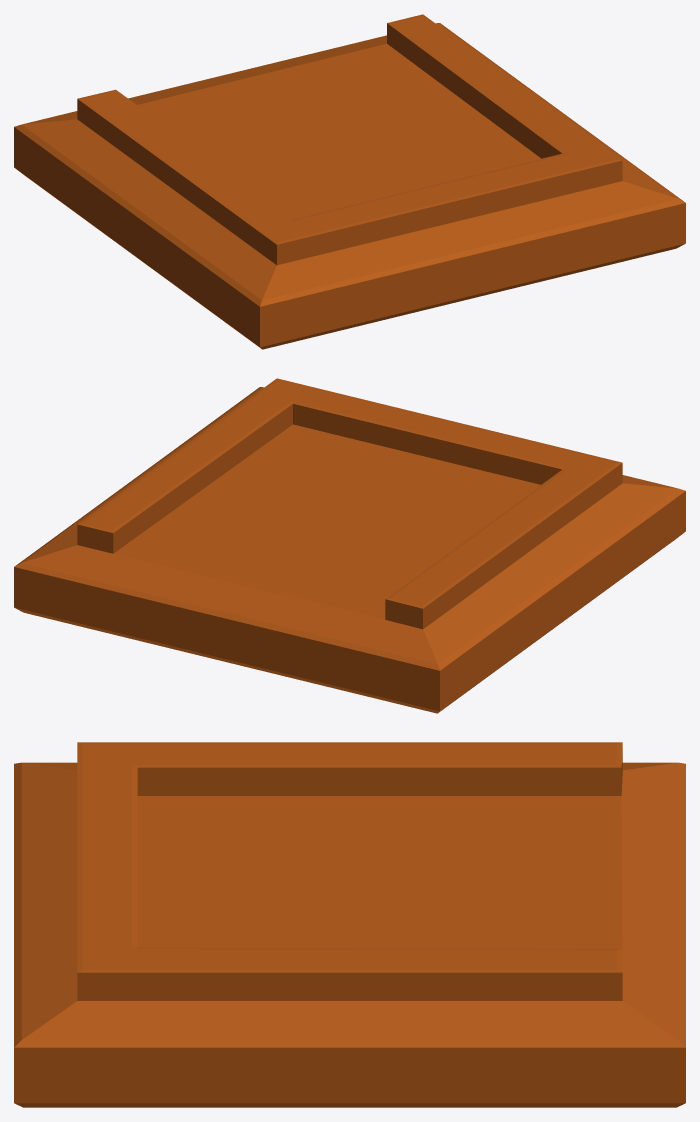
File: Lid_object_Rätt Normals 2.fbx
3 renders of one model, top to bottom at view 1: azimuth 30°, elevation 25°; view 2: azimuth 150°, elevation 25°; view 3: azimuth 270°, elevation 25°, orthographic. The views are drawn at different scales.
Visible parts, largest first — view 1: Kuplåda Lock Mesh; view 2: Kuplåda Lock Mesh; view 3: Kuplåda Lock Mesh.
Part boxes in pixels (left/top/right/bottom): Kuplåda Lock Mesh: left=14, top=14, right=685, bottom=349; Kuplåda Lock Mesh: left=14, top=378, right=685, bottom=713; Kuplåda Lock Mesh: left=14, top=742, right=685, bottom=1107.
Bounding box in the file's own units: 209 × 38.67 × 209.
